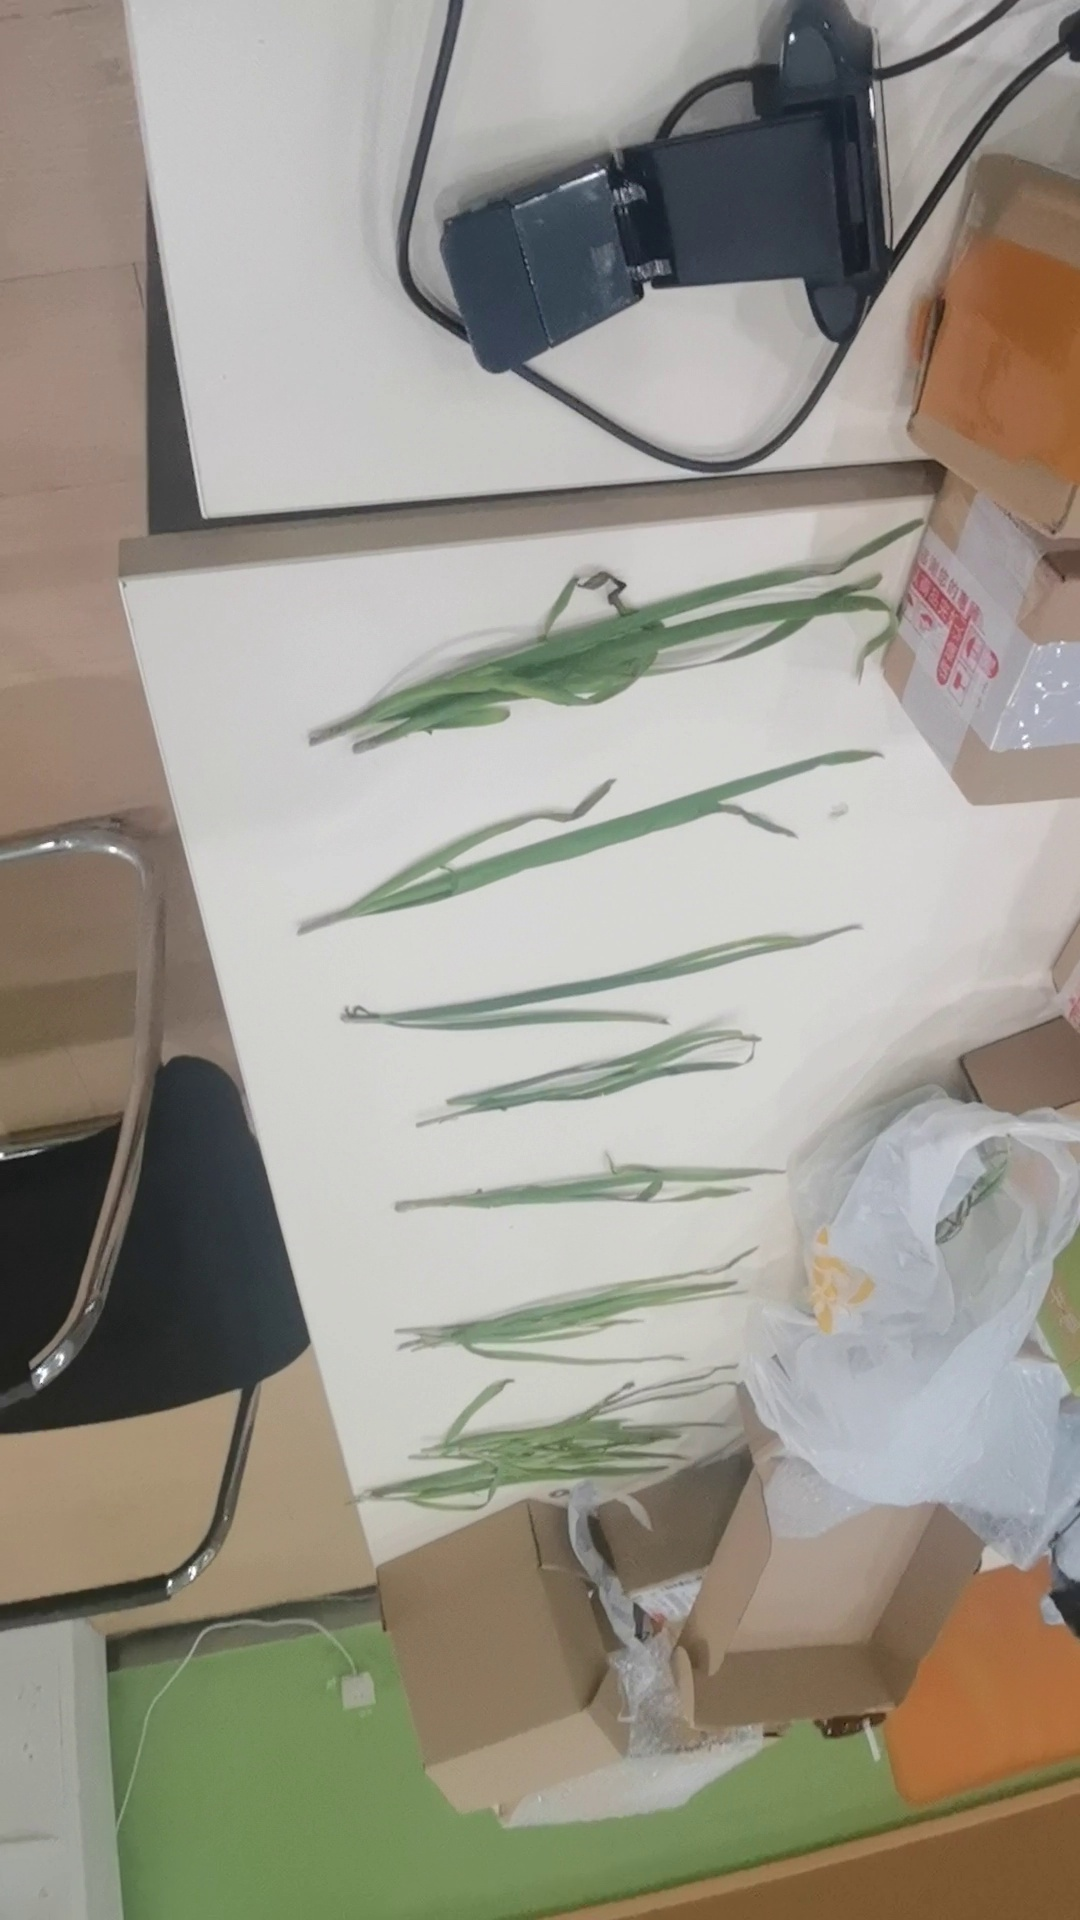chives: (289, 804, 994, 947), (291, 622, 894, 770), (306, 1394, 851, 1534), (347, 1147, 905, 1245), (332, 978, 891, 1056), (357, 1280, 808, 1375), (406, 1064, 885, 1153)
